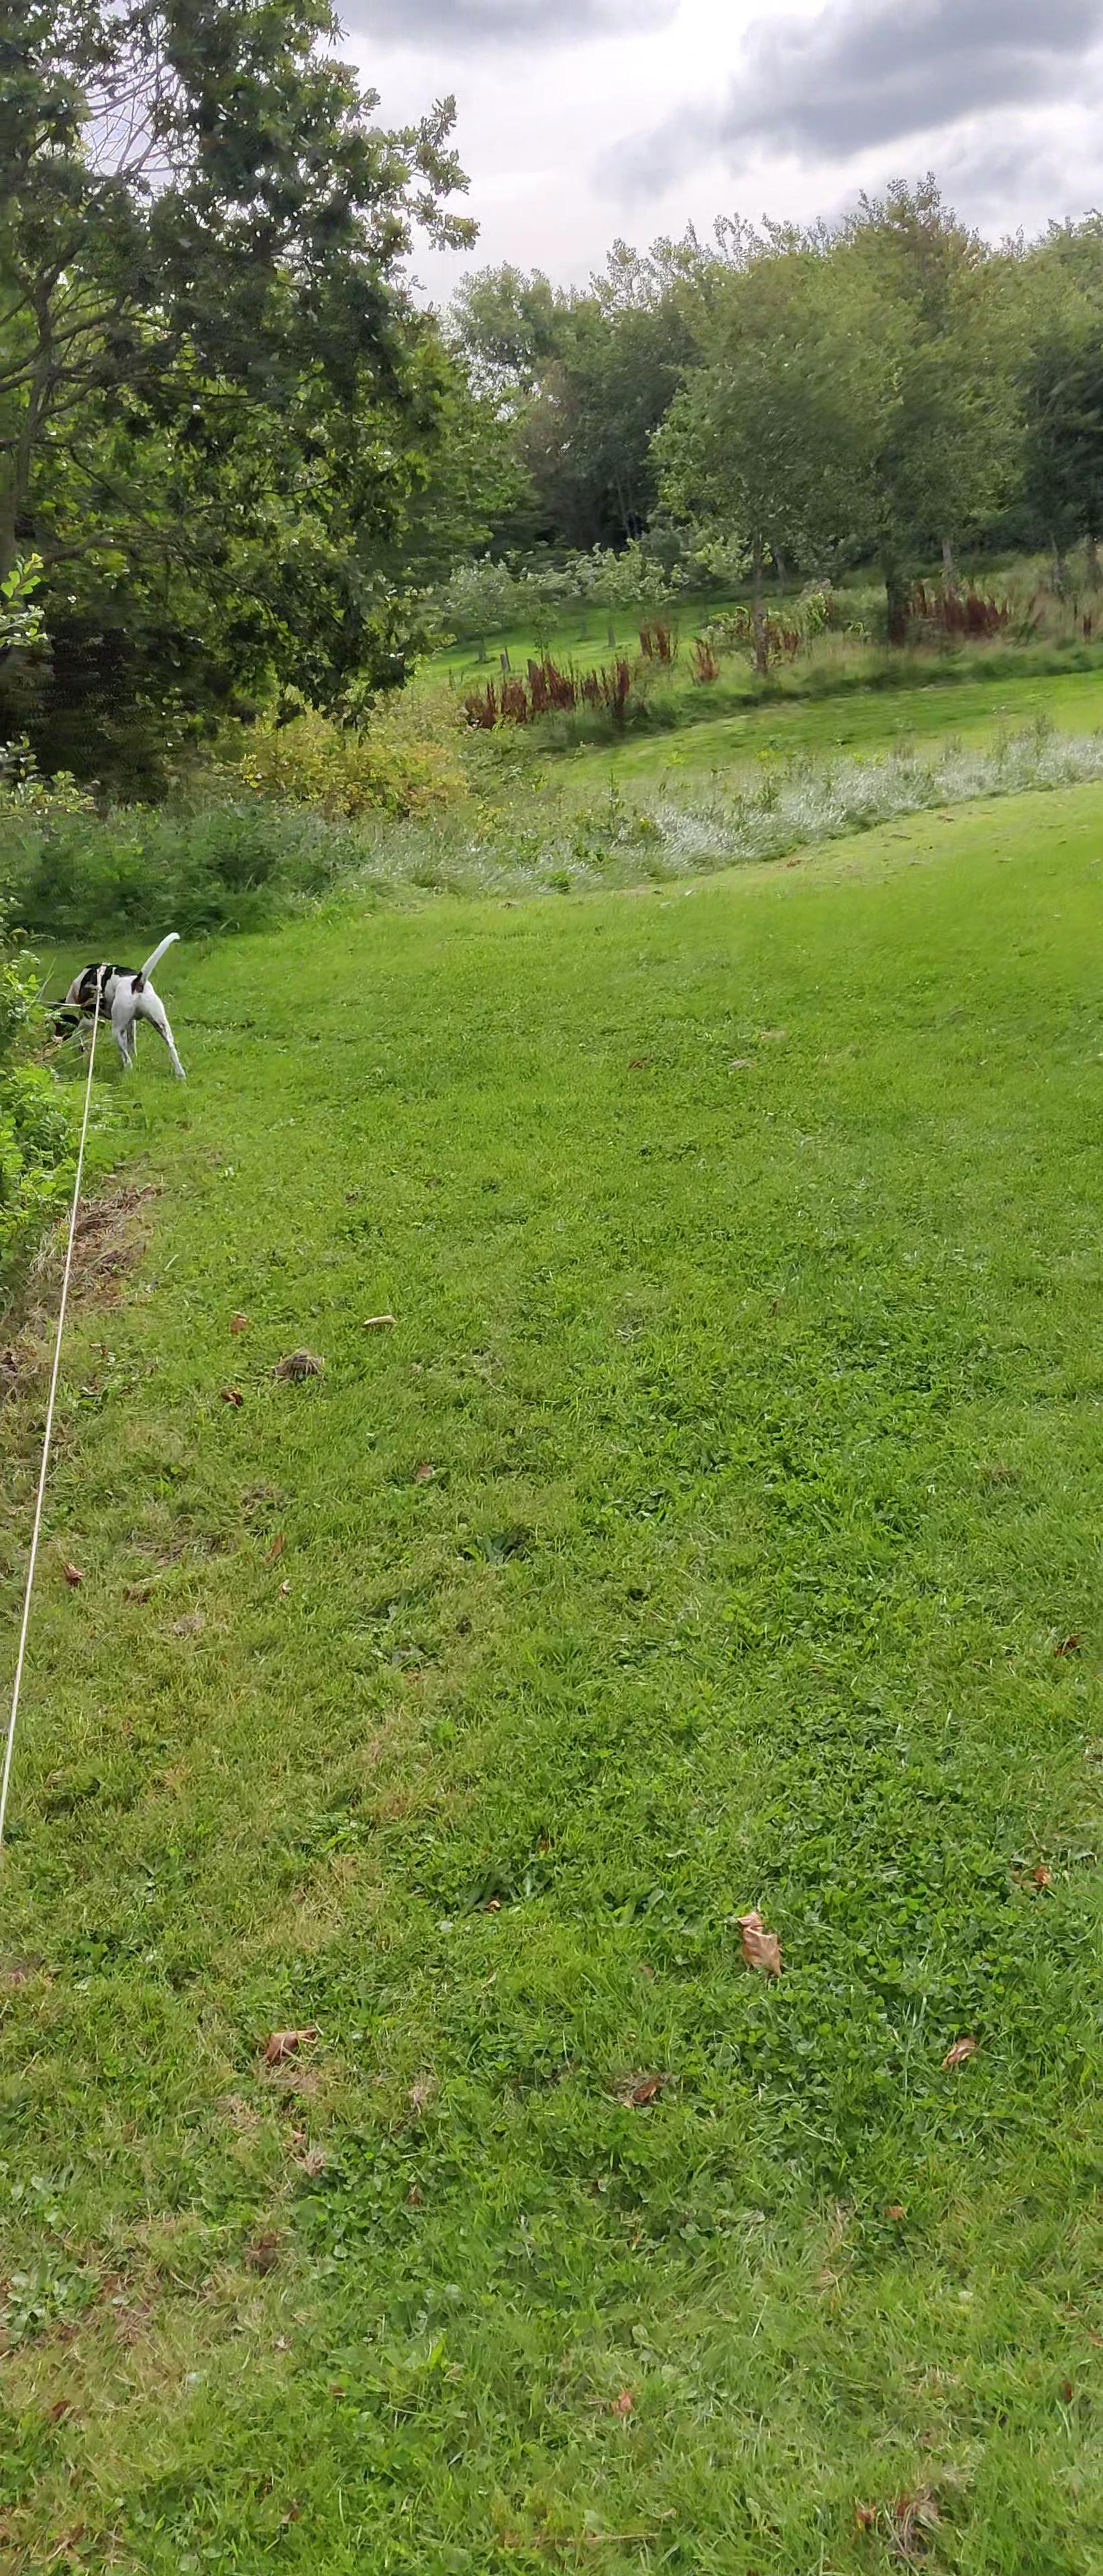Dog: (35, 925, 194, 1086)
